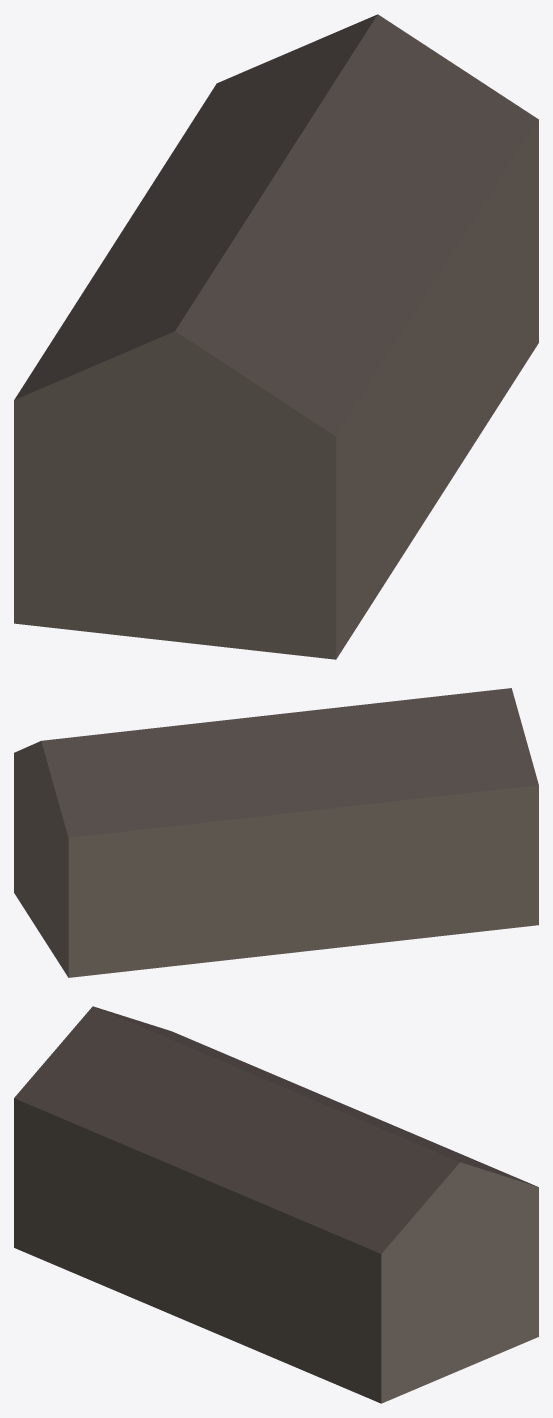
3 views of the same model, one above another, from view 1: azimuth 30°, elevation 25°; view 2: azimuth 150°, elevation 25°; view 3: azimuth 270°, elevation 25° (orthographic). The views are drawn at different scales.
Visible parts, largest first — view 1: HP-w745277158; view 2: HP-w745277158; view 3: HP-w745277158.
Boxes of the visible parts, x1,y1,x2,y2 form: HP-w745277158: (14,14,538,659); HP-w745277158: (14,688,538,977); HP-w745277158: (14,1006,538,1403).
Size of the model in its own units: 28.75 by 12.52 by 28.62.
